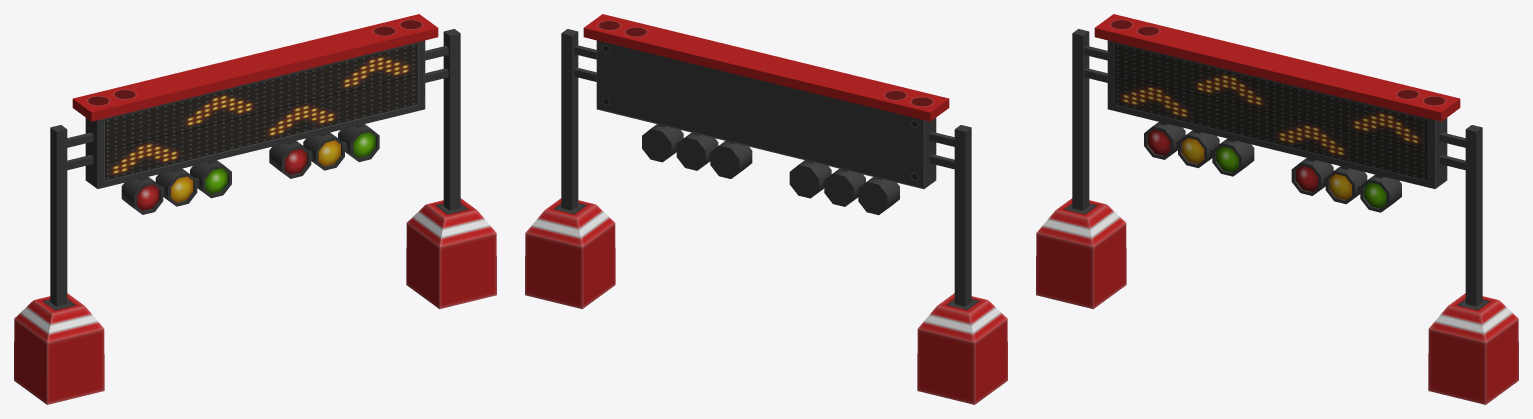
Rendered from startpoint.FBX.
The picture shows the model from 3 angles, left to right: view 1: azimuth 30°, elevation 25°; view 2: azimuth 150°, elevation 25°; view 3: azimuth 330°, elevation 25°; orthographic projection.
Visible parts, largest first — view 1: startpoint, ani; view 2: startpoint; view 3: startpoint, ani.
Boxes of the visible parts, box(x1,y1,x2,y2) form: startpoint: box(14, 14, 496, 404); ani: box(105, 44, 417, 180); startpoint: box(525, 14, 1007, 404); startpoint: box(1036, 14, 1518, 404); ani: box(1115, 44, 1427, 180).
Size of the model in its own units: 4.25 by 2.48 by 0.5432.
Materials: 2 (2 with a texture image).
